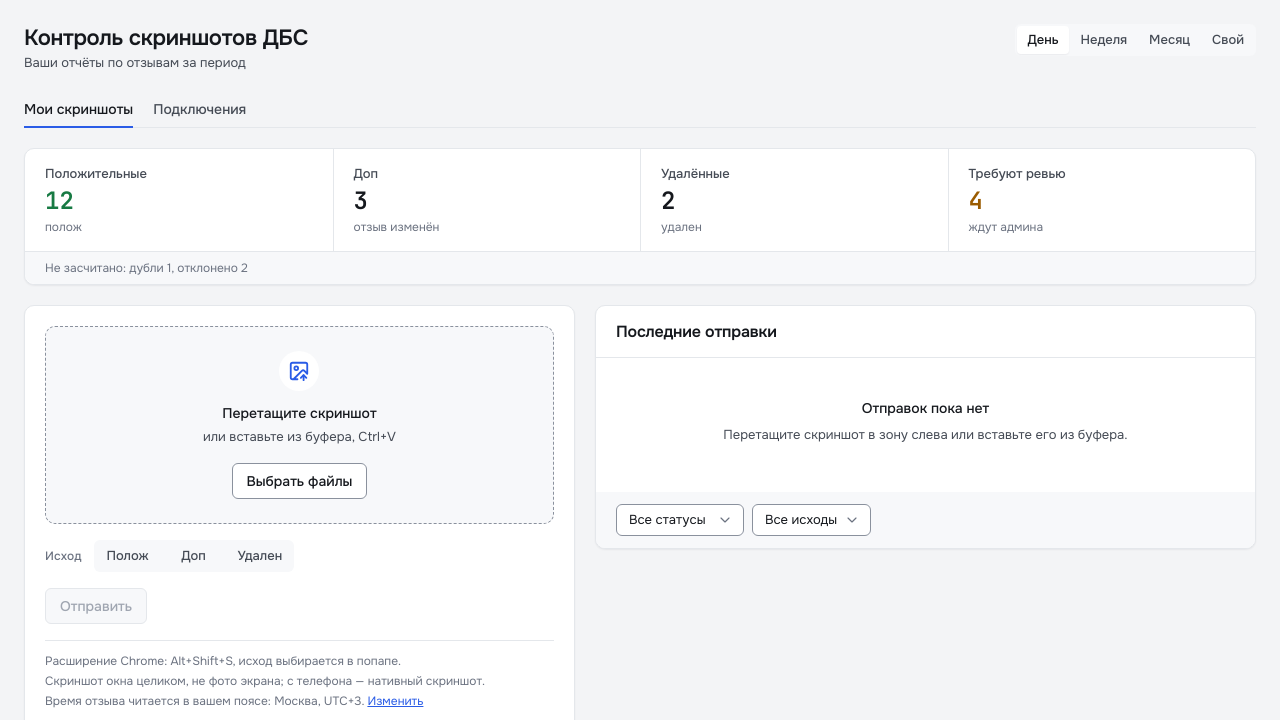
Test: ScreenshotControlPage › shows an expired pairing code
Click the tab "Подключения": click(200, 110) top-left (153, 92), bottom-right (246, 128)
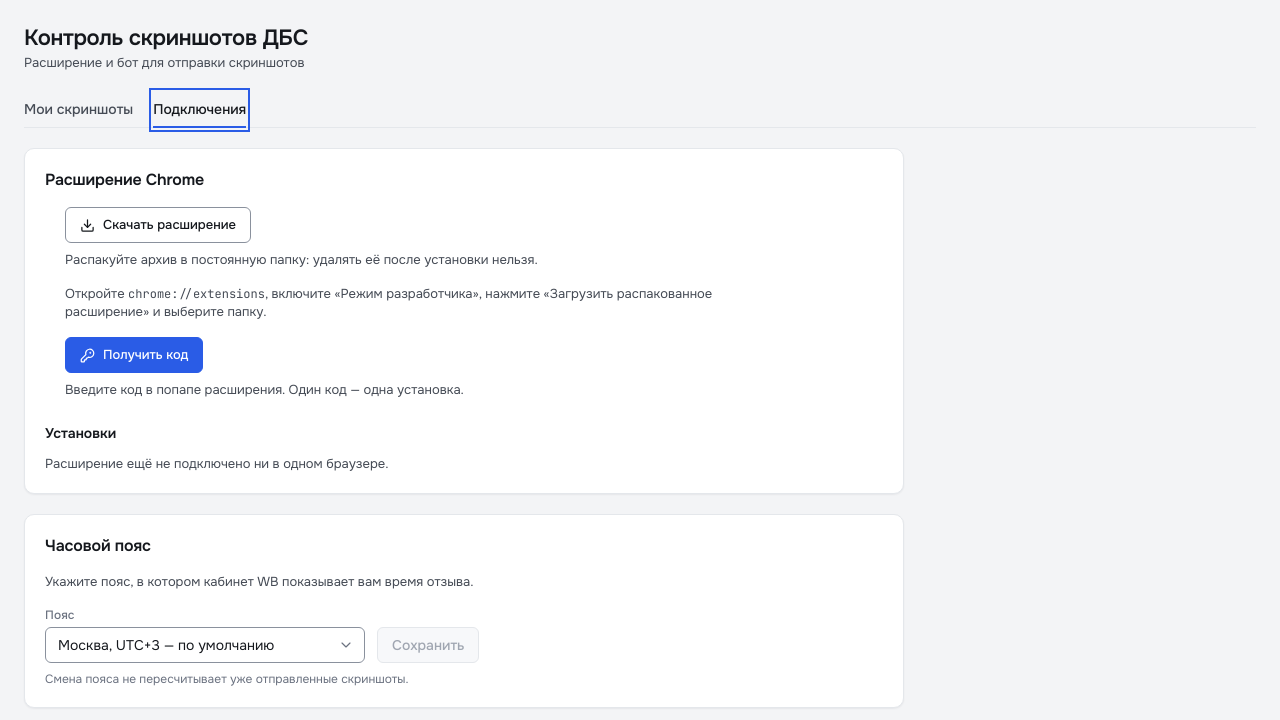
Click the button "Получить код": click(134, 355) top-left (65, 337), bottom-right (204, 373)
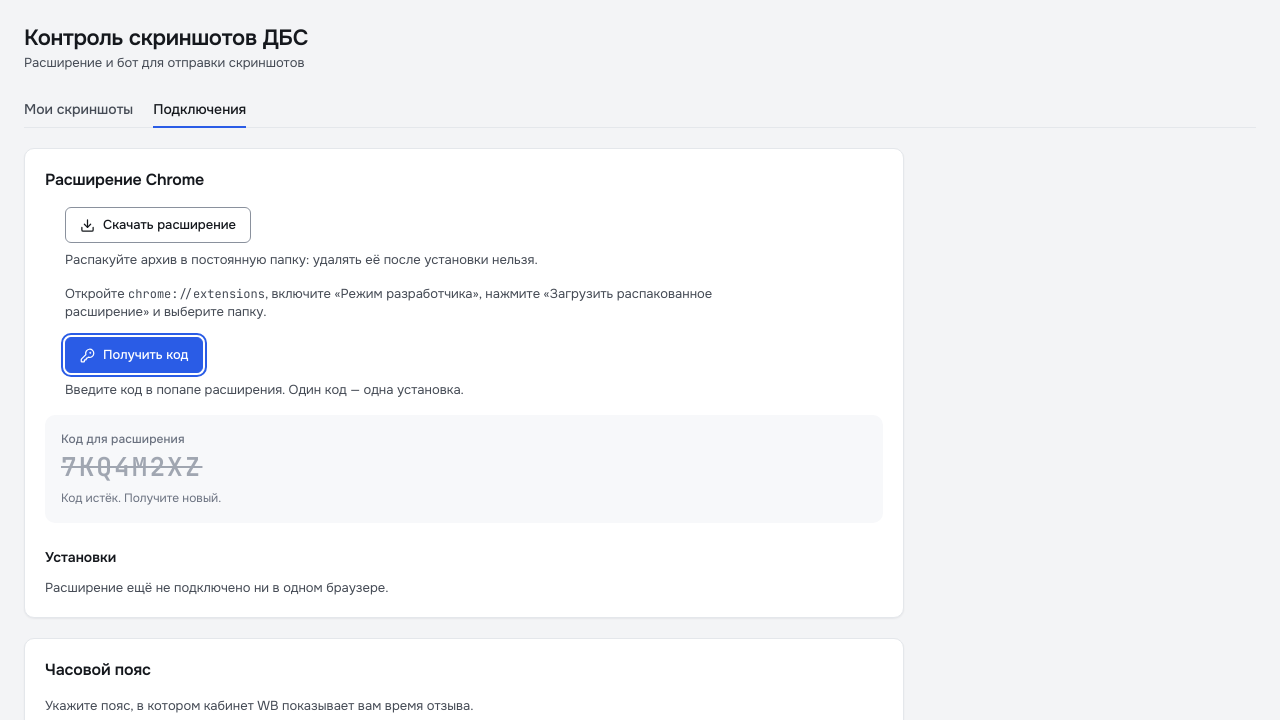
Check: the text "Код истёк. Получите новый." is shown, box top-left (61, 490), bottom-right (221, 506)
